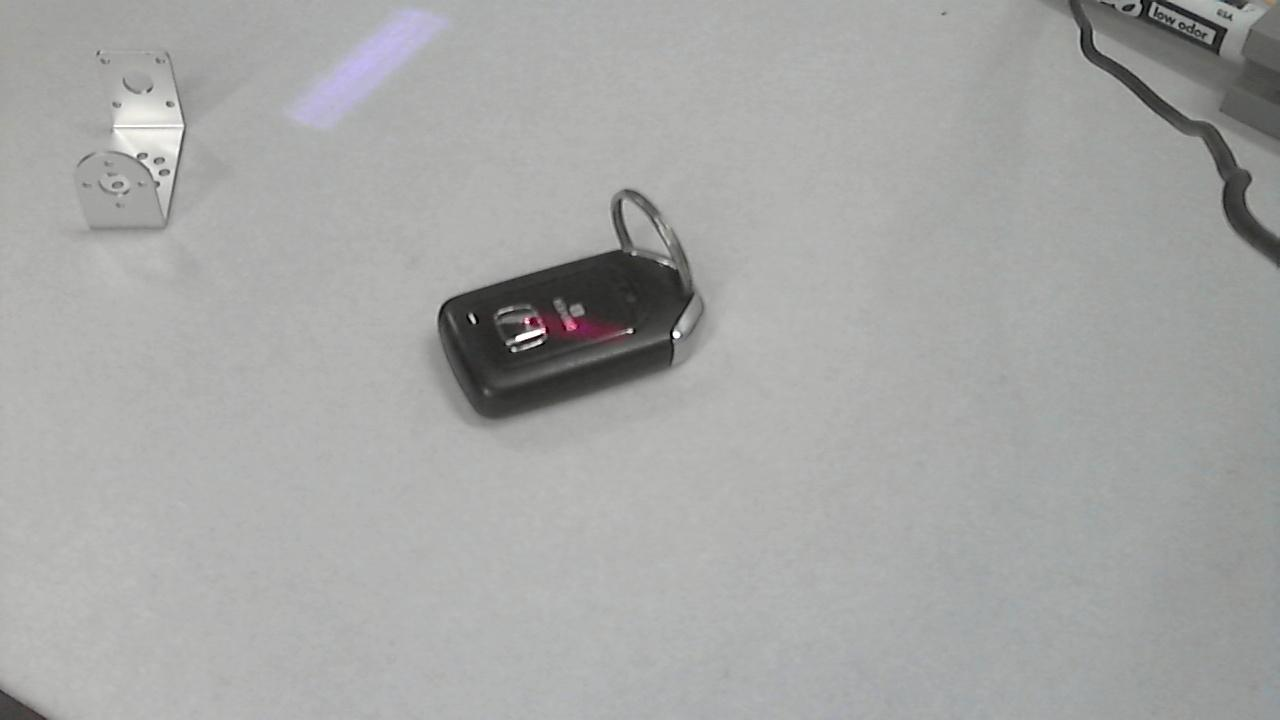Object car key fob with keyring - Material plastic - Pdfname u4lxlaYXiY3D: (485, 273, 647, 352)
